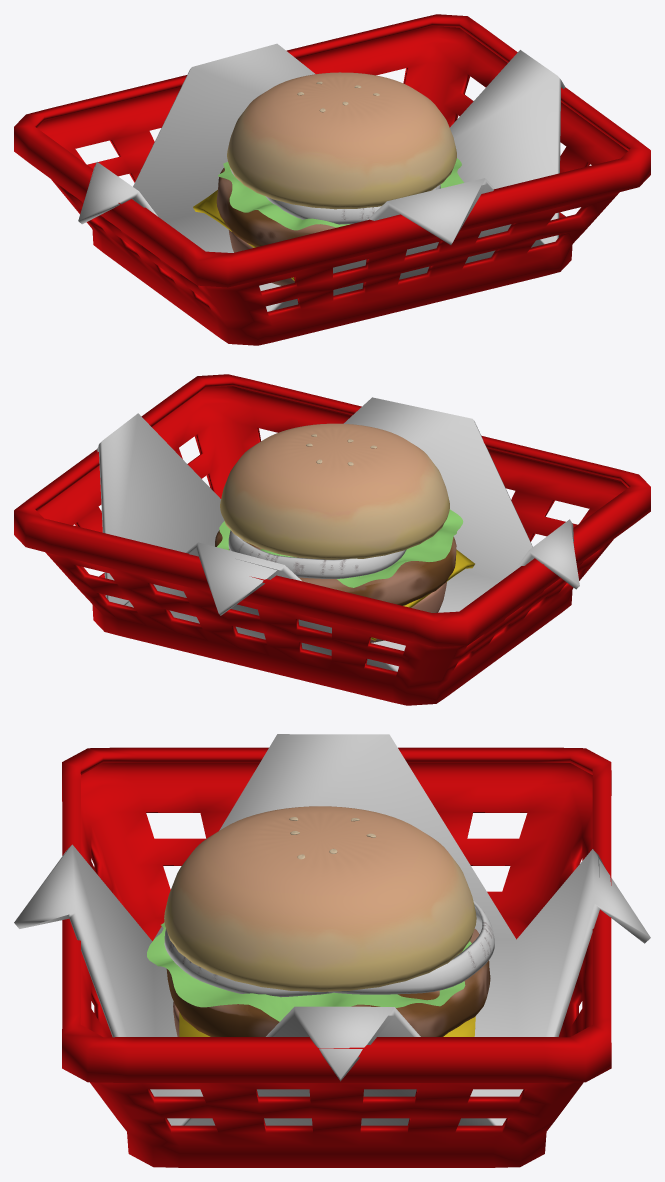
File: Burger.fbx
3 views of the same model, one above another, from view 1: azimuth 30°, elevation 25°; view 2: azimuth 150°, elevation 25°; view 3: azimuth 270°, elevation 25° (orthographic). The views are drawn at different scales.
Visible parts, largest first — view 1: BurgerTray, BurgerTrayPaper, Topbun, BurgerPatty, Lettuce, Onion, Cheese; view 2: BurgerTray, BurgerTrayPaper, Topbun, BurgerPatty, Onion.001, Lettuce, BottomBun; view 3: BurgerTray, BurgerTrayPaper, Topbun, BurgerPatty, Lettuce, Onion.001, Onion, Cheese.
Part boxes in pixels (<box>): BurgerTray: <box>14,14,650,345</box>; BurgerTrayPaper: <box>78,43,565,311</box>; Topbun: <box>227,72,456,209</box>; BurgerPatty: <box>216,168,335,246</box>; Lettuce: <box>218,158,463,230</box>; Onion: <box>265,184,440,224</box>; Cheese: <box>193,190,294,280</box>; BurgerTray: <box>14,374,650,705</box>; BurgerTrayPaper: <box>96,397,579,671</box>; Topbun: <box>220,423,449,559</box>; BurgerPatty: <box>215,530,456,605</box>; Onion.001: <box>228,530,406,578</box>; Lettuce: <box>217,509,463,587</box>; BottomBun: <box>370,582,446,642</box>; BurgerTray: <box>62,747,611,1167</box>; BurgerTrayPaper: <box>14,734,650,1125</box>; Topbun: <box>164,806,476,991</box>; BurgerPatty: <box>166,929,490,1036</box>; Lettuce: <box>147,922,471,1021</box>; Onion.001: <box>328,900,494,994</box>; Onion: <box>164,929,332,997</box>; Cheese: <box>179,1012,475,1036</box>.
Size of the model in its own units: 89.14 by 28.5 by 73.87.
16 materials, 16 textured.
